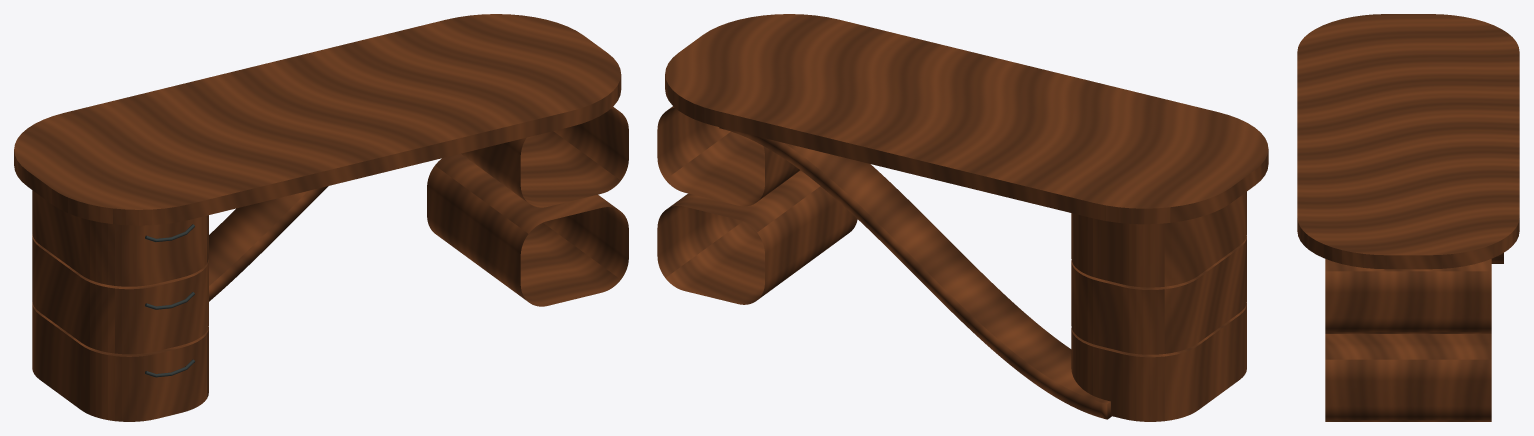
The model's file is desk-3.glb.
3 renders of one model, left to right at view 1: azimuth 30°, elevation 25°; view 2: azimuth 150°, elevation 25°; view 3: azimuth 270°, elevation 25°, orthographic. The views are drawn at different scales.
Visible parts, largest first — view 1: Sculpted capsule desktop, Bentwood open shelf, Rounded storage pod.001, Rounded storage pod, Rounded storage pod.002, Bentwood open shelf.001, S curve bentwood support; view 2: Sculpted capsule desktop, S curve bentwood support, Bentwood open shelf, Rounded storage pod.001, Rounded storage pod, Rounded storage pod.002, Bentwood open shelf.001; view 3: Sculpted capsule desktop, Bentwood open shelf, Bentwood open shelf.001.
Part boxes in pixels (bbox=[...]): Sculpted capsule desktop: bbox=[14, 14, 621, 225]; Bentwood open shelf: bbox=[427, 153, 628, 306]; Rounded storage pod.001: bbox=[32, 234, 208, 354]; Rounded storage pod: bbox=[32, 302, 208, 421]; Rounded storage pod.002: bbox=[32, 190, 208, 286]; Bentwood open shelf.001: bbox=[461, 107, 628, 207]; S curve bentwood support: bbox=[208, 186, 328, 301]; Sculpted capsule desktop: bbox=[665, 14, 1268, 224]; S curve bentwood support: bbox=[719, 127, 1111, 419]; Bentwood open shelf: bbox=[657, 170, 857, 304]; Rounded storage pod.001: bbox=[1071, 235, 1246, 354]; Rounded storage pod: bbox=[1071, 303, 1246, 421]; Rounded storage pod.002: bbox=[1071, 192, 1246, 287]; Bentwood open shelf.001: bbox=[657, 106, 800, 206]; Sculpted capsule desktop: bbox=[1297, 14, 1519, 269]; Bentwood open shelf: bbox=[1325, 334, 1491, 421]; Bentwood open shelf.001: bbox=[1325, 259, 1491, 333].
Size of the model in its own units: 1.85 by 0.71 by 0.72.
Materials: 2 (1 with a texture image).
